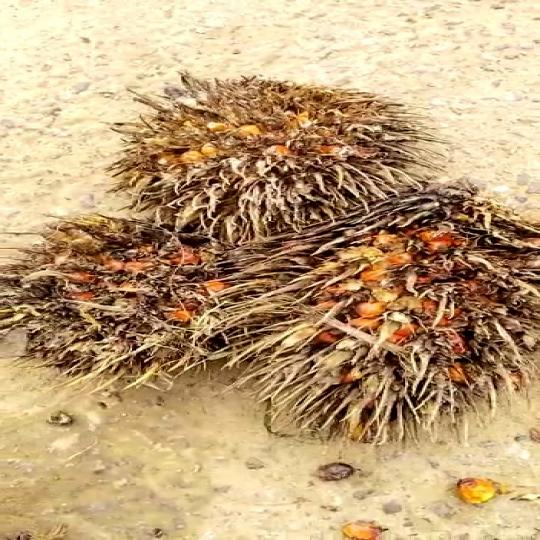terlalu masak: (210, 173, 540, 436), (105, 82, 416, 237), (0, 208, 247, 362)
